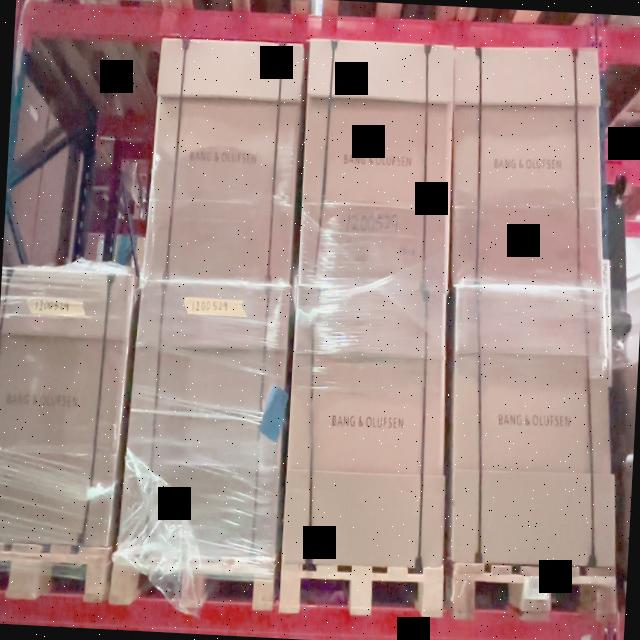box: (117, 281, 291, 564), (451, 286, 616, 569), (282, 286, 447, 569), (144, 38, 305, 284), (299, 39, 455, 292), (452, 47, 603, 289)
